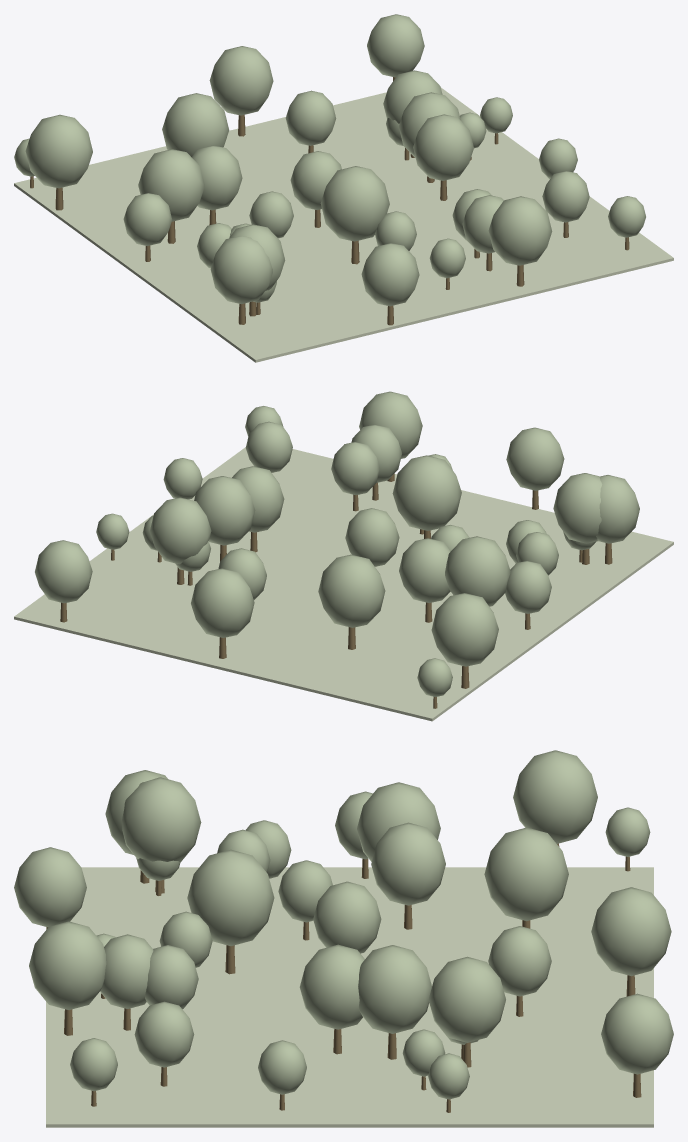
The picture shows the model from 3 angles, top to bottom: view 1: azimuth 30°, elevation 25°; view 2: azimuth 150°, elevation 25°; view 3: azimuth 270°, elevation 25°; orthographic projection. The views are drawn at different scales.
Parts seen in each view (by area): view 1: terrain, lod-near-10, lod-near-6, lod-near-19, lod-near-16, lod-near-1, lod-near-27, lod-near-12, lod-near-22, lod-near-11, lod-near-23, lod-near-0 (+17 smaller); view 2: terrain, lod-near-10, lod-near-6, lod-near-12, lod-near-19, lod-near-27, lod-near-25, lod-near-24, lod-near-11, lod-near-23, lod-near-21, lod-near-0 (+17 smaller); view 3: terrain, lod-near-10, lod-near-12, lod-near-6, lod-near-19, lod-near-21, lod-near-16, lod-near-24, lod-near-25, lod-near-0, lod-near-23, lod-near-11 (+19 smaller).
Boxes of the visible parts, x1=… form: terrain: x1=14, y1=87, x2=673, y2=362; lod-near-10: x1=320, y1=166, x2=389, y2=241; lod-near-6: x1=25, y1=114, x2=92, y2=188; lod-near-19: x1=209, y1=46, x2=273, y2=115; lod-near-16: x1=488, y1=196, x2=552, y2=265; lod-near-1: x1=210, y1=236, x2=272, y2=304; lod-near-27: x1=138, y1=149, x2=204, y2=221; lod-near-12: x1=162, y1=93, x2=229, y2=156; lod-near-22: x1=413, y1=114, x2=473, y2=180; lod-near-11: x1=361, y1=243, x2=419, y2=306; lod-near-23: x1=367, y1=14, x2=424, y2=77; lod-near-0: x1=191, y1=145, x2=242, y2=210; terrain: x1=14, y1=447, x2=673, y2=721; lod-near-10: x1=392, y1=455, x2=461, y2=530; lod-near-6: x1=431, y1=593, x2=498, y2=666; lod-near-12: x1=318, y1=554, x2=385, y2=627; lod-near-19: x1=191, y1=568, x2=254, y2=637; lod-near-27: x1=445, y1=536, x2=510, y2=606; lod-near-25: x1=149, y1=497, x2=211, y2=564; lod-near-24: x1=194, y1=476, x2=255, y2=545; lod-near-11: x1=506, y1=427, x2=564, y2=490; lod-near-23: x1=35, y1=540, x2=92, y2=603; lod-near-21: x1=553, y1=473, x2=602, y2=543; lod-near-0: x1=399, y1=538, x2=450, y2=602; terrain: x1=46, y1=867, x2=653, y2=1127; lod-near-10: x1=187, y1=849, x2=274, y2=946; lod-near-12: x1=484, y1=827, x2=568, y2=921; lod-near-6: x1=513, y1=750, x2=597, y2=843; lod-near-19: x1=591, y1=887, x2=671, y2=976; lod-near-21: x1=121, y1=777, x2=201, y2=862; lod-near-16: x1=29, y1=921, x2=106, y2=1009; lod-near-24: x1=358, y1=945, x2=431, y2=1033; lod-near-25: x1=428, y1=956, x2=505, y2=1042; lod-near-0: x1=371, y1=822, x2=445, y2=905; lod-near-23: x1=601, y1=993, x2=673, y2=1074; lod-near-11: x1=14, y1=847, x2=86, y2=927.
Size of the model in its own units: 33.76 by 7.24 by 34.74.
